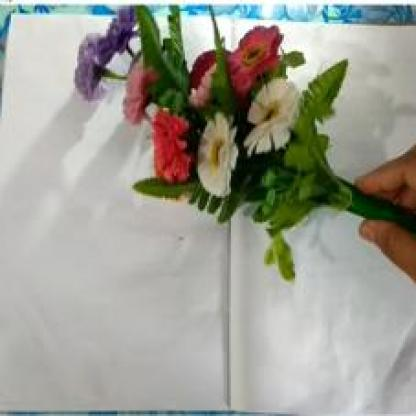flower: (61, 8, 379, 272)
